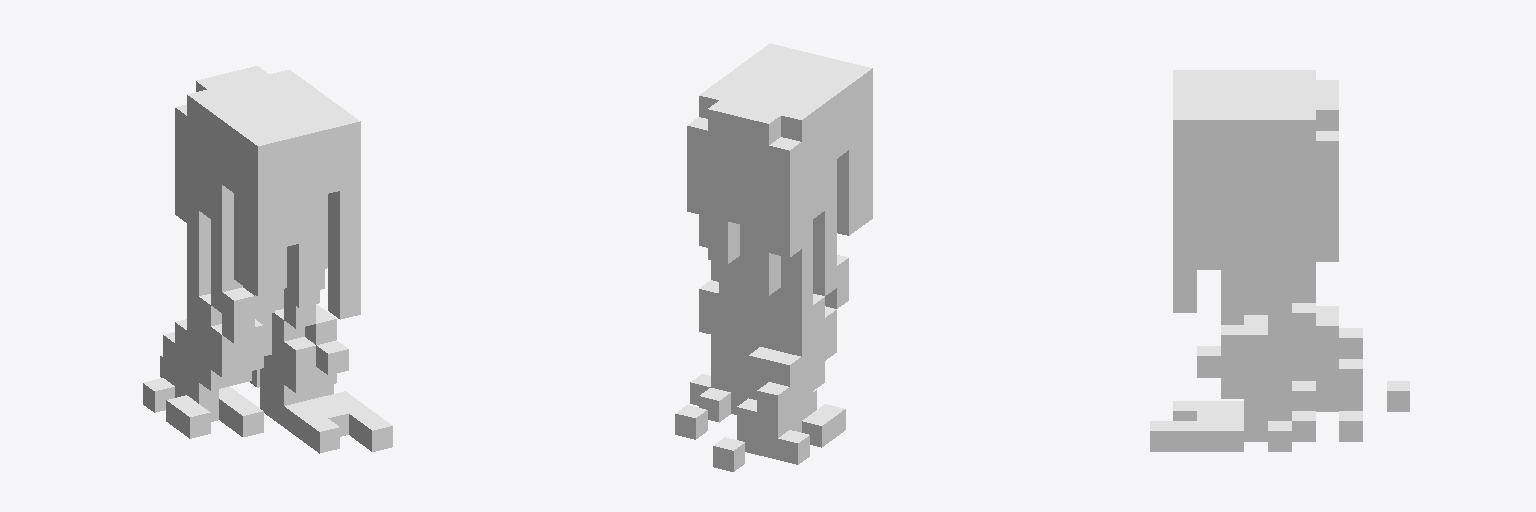
File: Gremlin.obj
3 renders of one model, left to right at view 1: azimuth 30°, elevation 25°; view 2: azimuth 150°, elevation 25°; view 3: azimuth 270°, elevation 25°, orthographic.
Visible parts, largest first — view 1: object 1; view 2: object 1; view 3: object 1.
Boxes of the visible parts, <box> form: object 1: <box>143,66,392,453</box>; object 1: <box>675,43,872,471</box>; object 1: <box>1150,70,1409,451</box>.
Size of the model in its own units: 0.7 by 1.5 by 1.1.